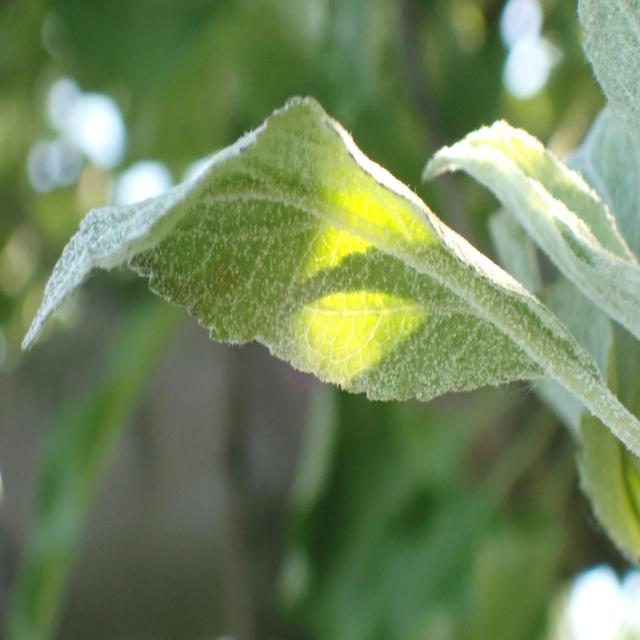Powdery_mildew: (20, 93, 575, 410), (484, 204, 640, 586), (419, 100, 640, 354), (549, 3, 640, 169)
